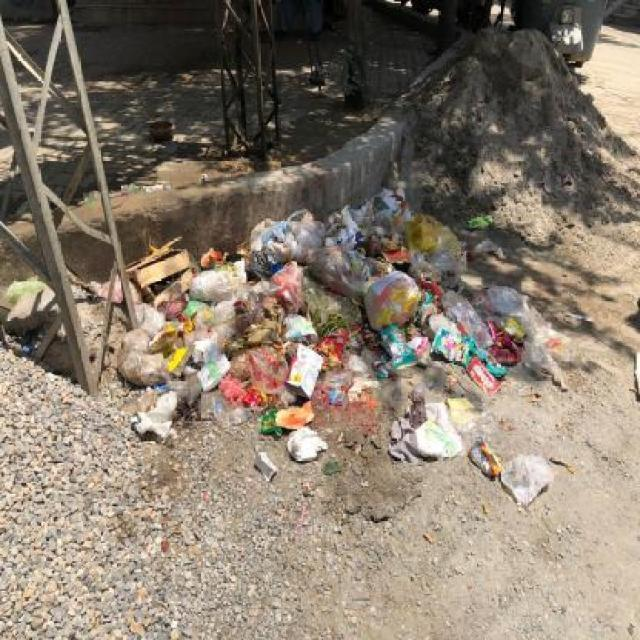garbage: (98, 243, 564, 517), (258, 197, 490, 271), (9, 273, 64, 319)
